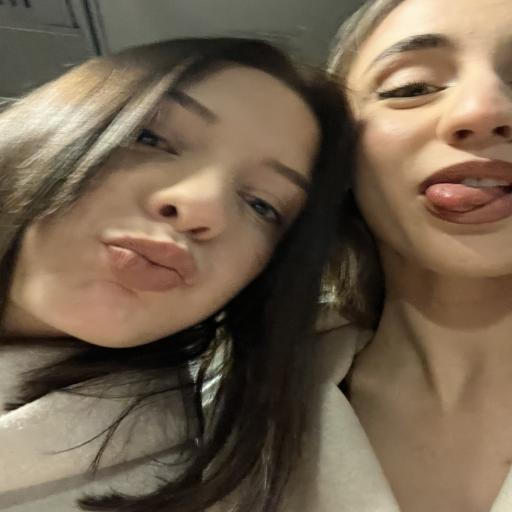masa: (340, 1, 512, 279)
